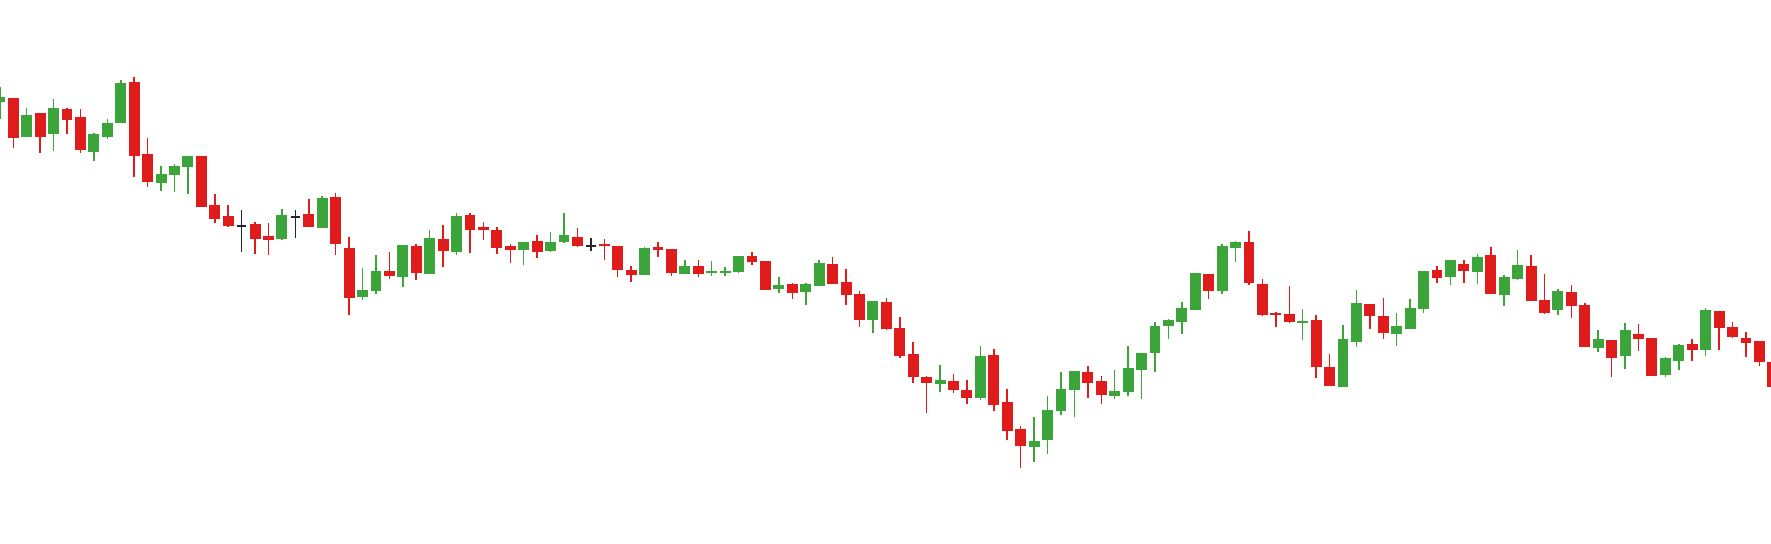sell: (46, 78, 143, 142)
